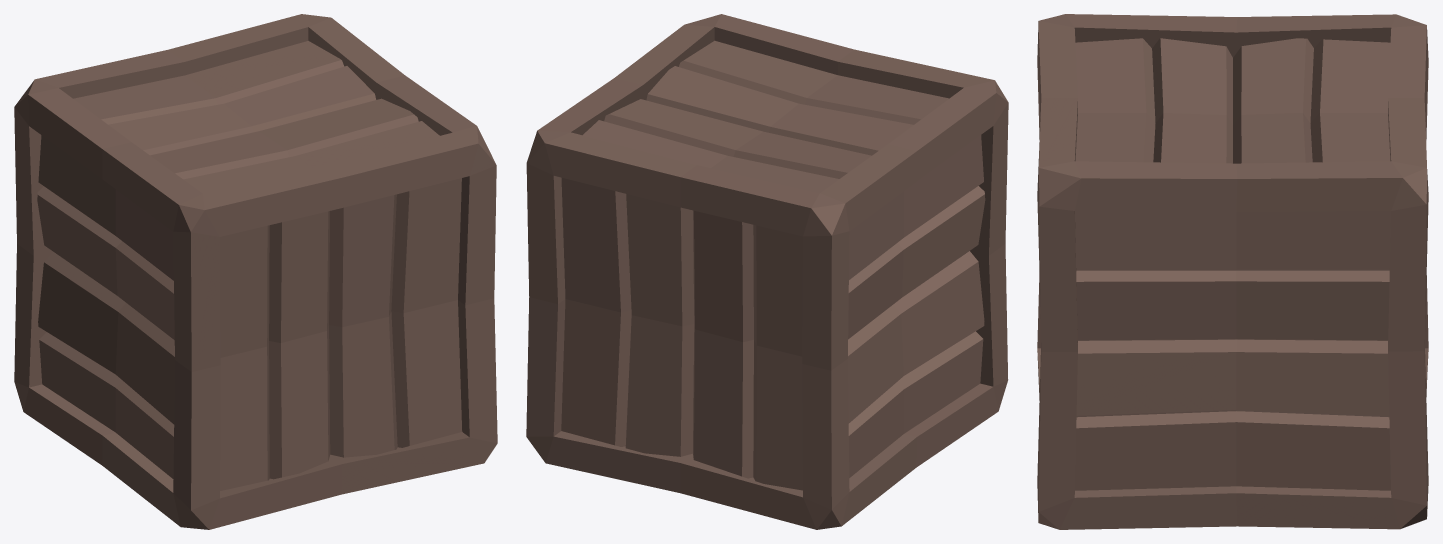
3 views of the same model, side by side, from view 1: azimuth 30°, elevation 25°; view 2: azimuth 150°, elevation 25°; view 3: azimuth 270°, elevation 25° (orthographic). The views are drawn at different scales.
Visible parts, largest first — view 1: Box; view 2: Box; view 3: Box.
Part boxes in pixels (left/top/right/bottom): Box: left=14, top=14, right=497, bottom=529; Box: left=526, top=14, right=1008, bottom=529; Box: left=1037, top=14, right=1428, bottom=529.
Size of the model in its own units: 0.8441 by 0.8441 by 0.8441.
